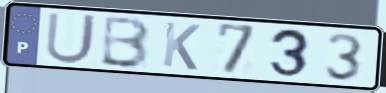3: (268, 26, 312, 81), (323, 32, 367, 83)
7: (215, 21, 259, 77)
B: (97, 15, 153, 71)
K: (160, 20, 203, 73)
U: (43, 10, 100, 66)
